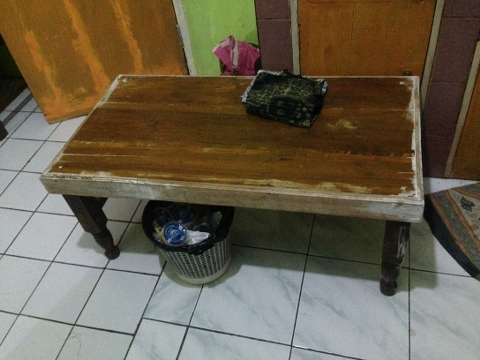meja: (40, 72, 425, 298)
